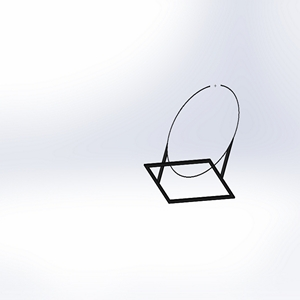circle: (141, 82, 246, 204)
